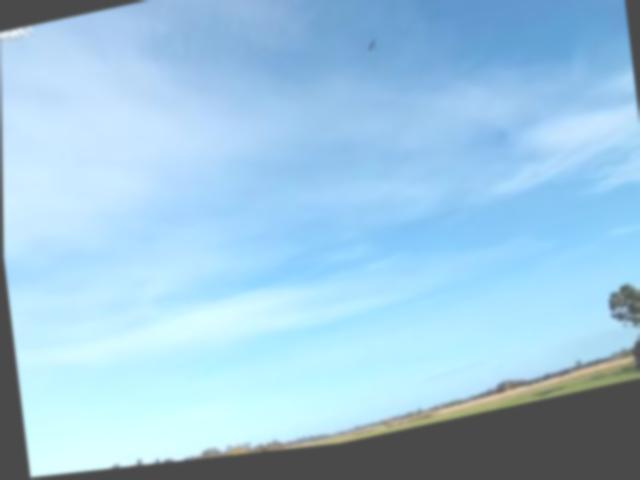uav: (360, 39, 383, 69)
